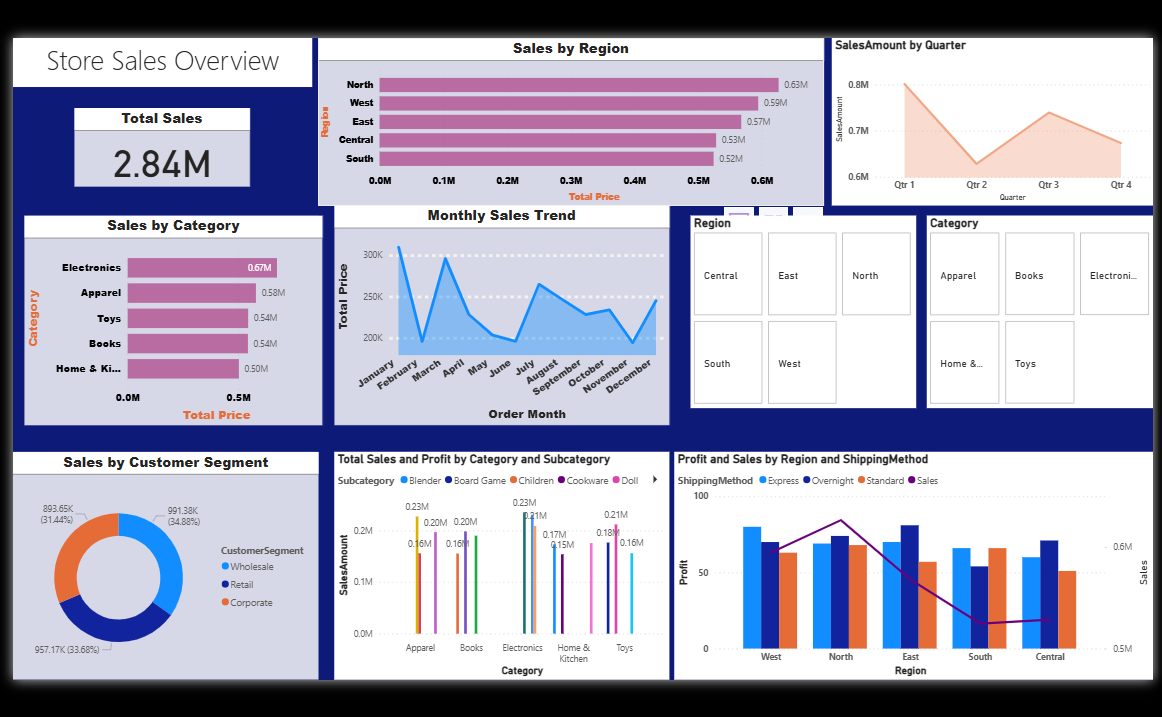

This screenshot's page, from the dashboard's own definition file:
{"tool":"powerbi","page":{"name":"Page 1","canvas":[1600,900],"ordinal":0},"visuals":[{"type":"card","title":"Total Sales","fields":{"Values":["Sum(sales_data.TotalPrice)"]},"box":[86,98,246,110],"z":0},{"type":"clusteredBarChart","title":"Sales by Region","fields":{"Category":["sales_data.Region"],"Y":["Sum(sales_data.TotalPrice)"]},"box":[428.3,0,710,235],"z":1000},{"type":"clusteredBarChart","title":"Sales by Category","fields":{"Y":["Sum(sales_data.TotalPrice)"],"Category":["sales_data.Category"]},"box":[15.7,248.6,418.6,294.3],"z":2000},{"type":"areaChart","title":"Monthly Sales Trend","fields":{"Category":["sales_data.OrderDate.Variation.Date Hierarchy.Month"],"Y":["Sum(sales_data.TotalPrice)"]},"box":[450,235.6,470,307.8],"z":3000},{"type":"donutChart","title":"Sales by Customer Segment","fields":{"Category":["sales_data.CustomerSegment"],"Y":["Sum(sales_data.TotalPrice)"]},"box":[0,580,428.9,320],"z":5000},{"type":"textbox","box":[0,0,420,69],"z":6000},{"type":"areaChart","fields":{"Category":["sales_data.OrderDate.Variation.Date Hierarchy.Quarter"],"Y":["sales_data.SalesAmount"]},"box":[1148.3,0,451.7,235],"z":7000},{"type":"advancedSlicerVisual","fields":{"Values":["sales_data.Region"]},"box":[951.7,248.3,316.7,270],"z":8000},{"type":"advancedSlicerVisual","fields":{"Values":["sales_data.Category"]},"box":[1281.7,248.3,318.3,270],"z":9000},{"type":"clusteredColumnChart","title":"Total Sales and Profit by Category and Subcategory","fields":{"Category":["sales_data.Category","sales_data.Profit"],"Series":["sales_data.Subcategory"],"Y":["sales_data.SalesAmount"]},"box":[450,580,470,320],"z":10000},{"type":"lineClusteredColumnComboChart","fields":{"Category":["sales_data.Region"],"Y":["CountNonNull(sales_data.Profit)"],"Y2":["sales_data.SalesAmount"],"Series":["sales_data.ShippingMethod"]},"box":[928,580,672,320],"z":10001}]}

Visuals, with their boxes in screenshot pixels (x1, y1, x2, y2):
"Total Sales" card: select_region(68, 103, 244, 182)
"Sales by Region" clusteredBarChart: select_region(313, 33, 821, 202)
"Sales by Category" clusteredBarChart: select_region(17, 211, 317, 422)
"Monthly Sales Trend" areaChart: select_region(328, 202, 665, 422)
"Sales by Customer Segment" donutChart: select_region(6, 449, 313, 678)
textbox: select_region(6, 33, 307, 83)
areaChart - sales_data.OrderDate.Variation.Date Hierarchy.Quarter x sales_data.SalesAmount: select_region(828, 33, 1152, 202)
advancedSlicerVisual - sales_data.Region: select_region(688, 211, 914, 405)
advancedSlicerVisual - sales_data.Category: select_region(924, 211, 1152, 405)
"Total Sales and Profit by Category and Subcategory" clusteredColumnChart: select_region(328, 449, 665, 678)
lineClusteredColumnComboChart - sales_data.Region x CountNonNull(sales_data.Profit): select_region(671, 449, 1152, 678)
